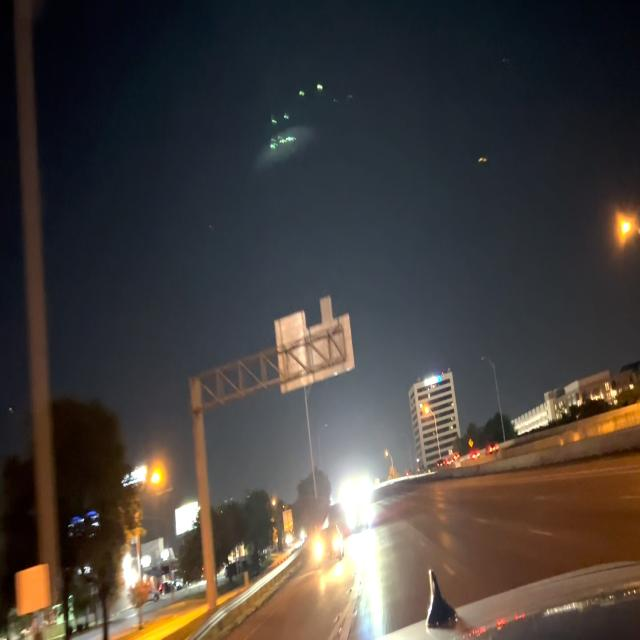back-of-sign: (270, 298, 357, 398)
